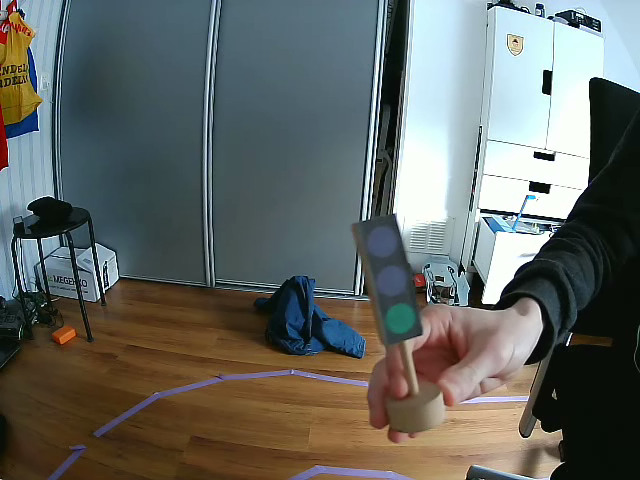groenlicht: (364, 213, 423, 345)
